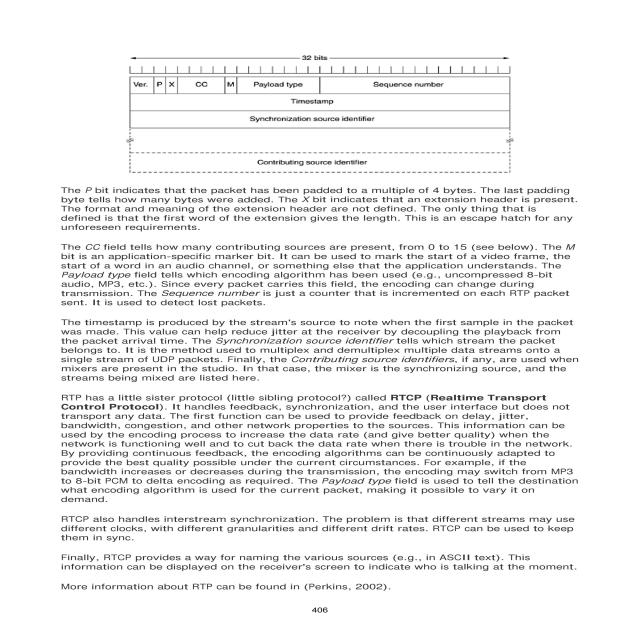diagram: (62, 22, 559, 180)
